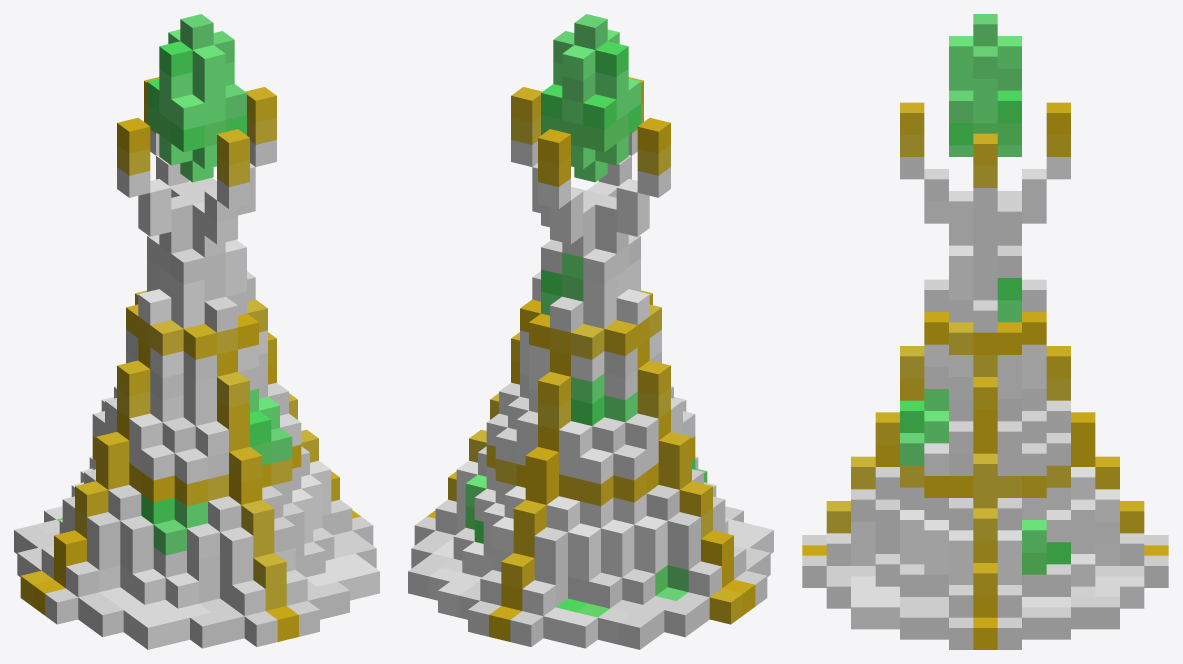
The model's file is Plains Mage Tower.obj.
3 views of the same model, side by side, from view 1: azimuth 30°, elevation 25°; view 2: azimuth 150°, elevation 25°; view 3: azimuth 270°, elevation 25° (orthographic).
Bounding box in the file's own units: 1.5 × 2.5 × 1.5.
1 material, 1 textured.
